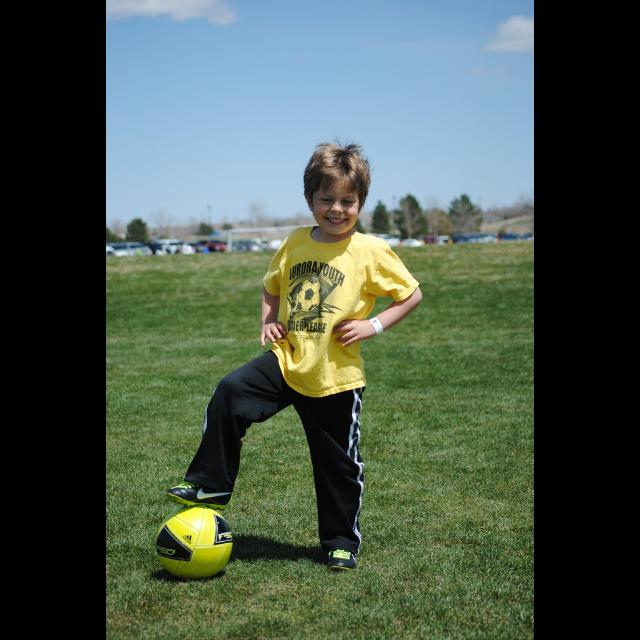Football: (152, 506, 232, 574)
